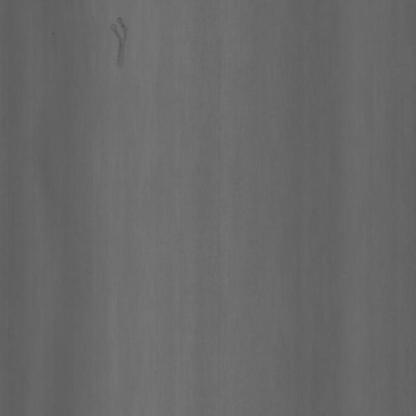water_spot: (107, 12, 138, 70)
